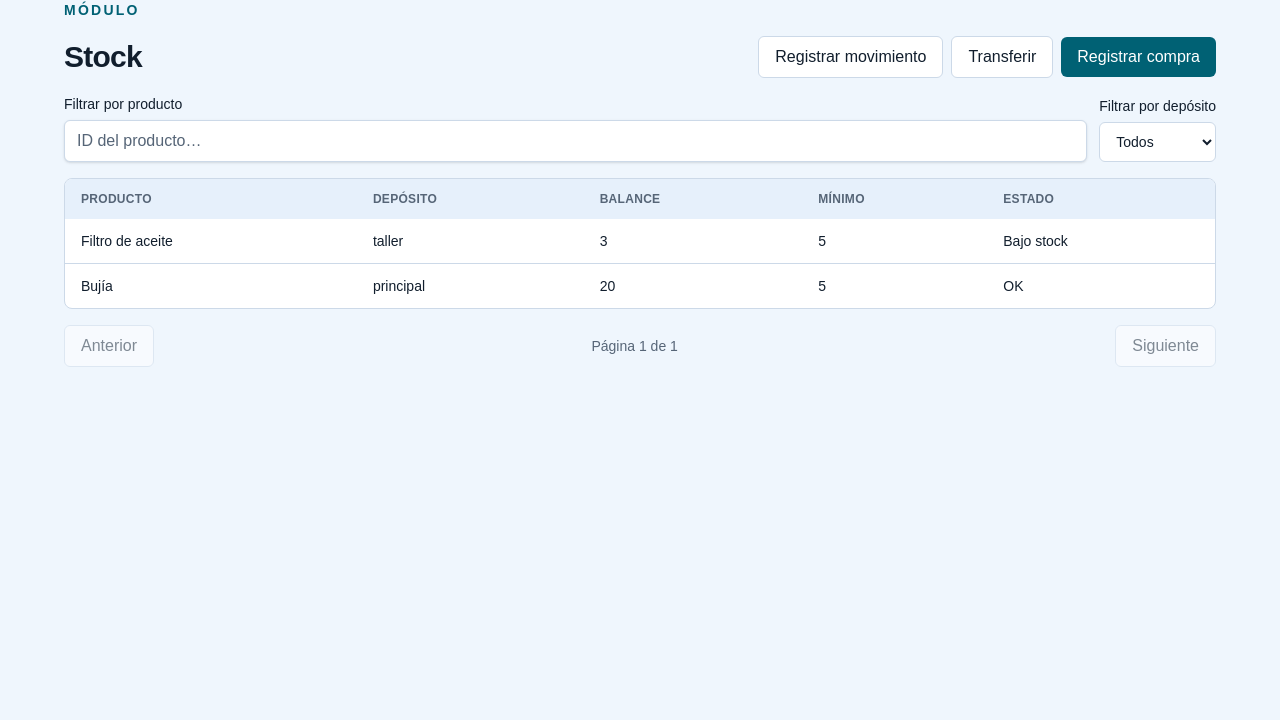
Test: StockPage › transfers as admin, shows a toast, and refreshes the list
This screenshot has width=1280, height=720.
Expected: the text "Filtro de aceite" is shown, [65, 219, 357, 264]
Click the button "Transferir" at (1002, 57), box [951, 36, 1053, 78]
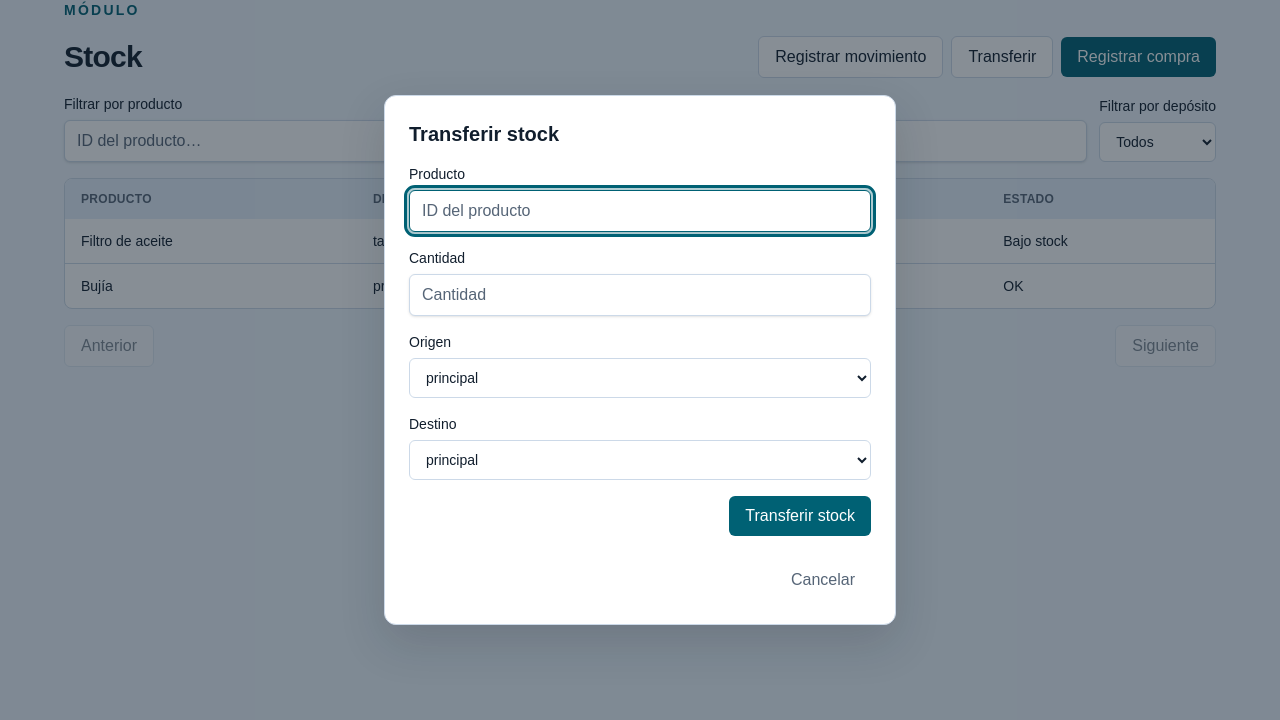
Type "p_1" into the field labelled "Producto" at (640, 211), box [409, 190, 871, 232]
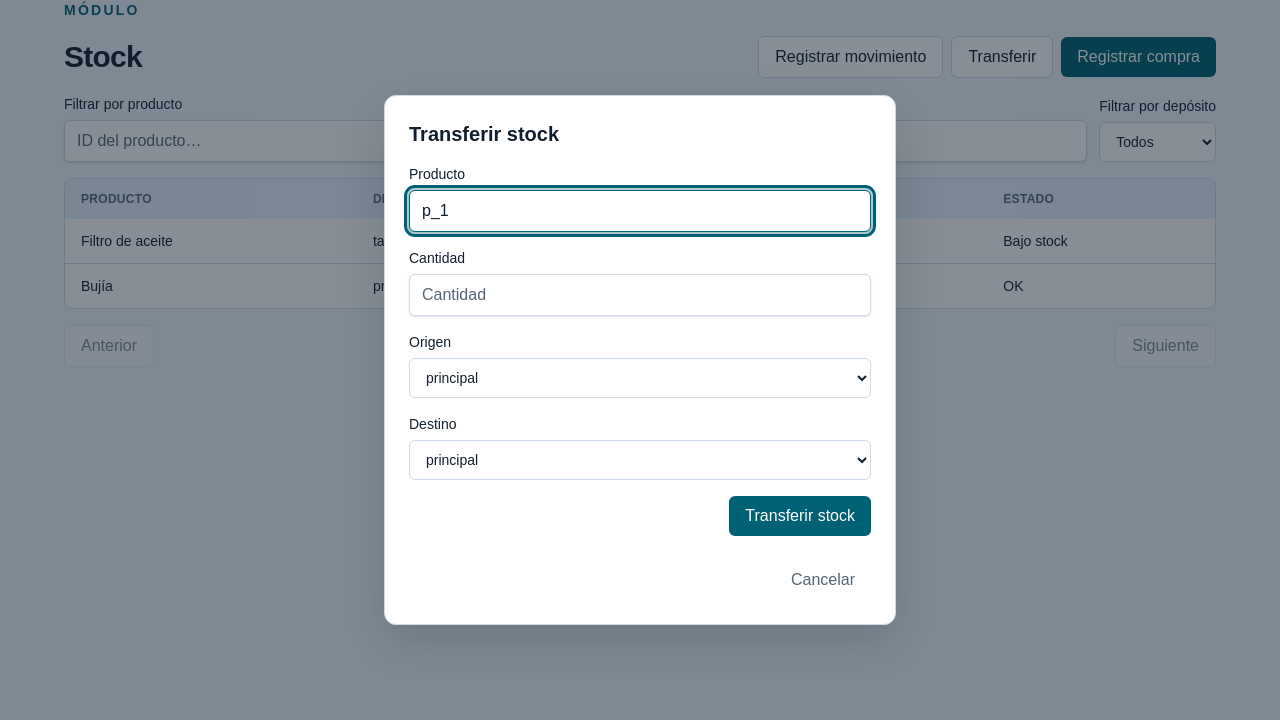
Type "2" into the number field labelled "Cantidad" at (640, 295), box [409, 274, 871, 316]
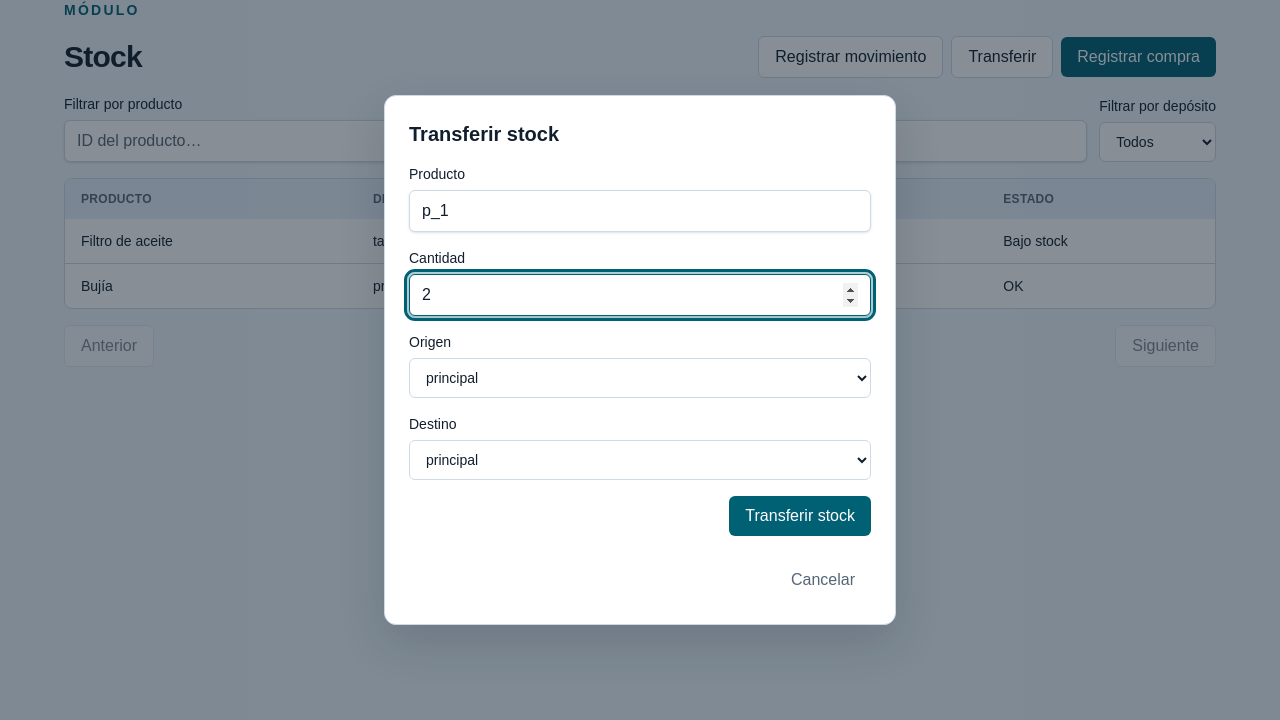
Select "taller" in the dropdown labelled "Destino" at (640, 460), box [409, 440, 871, 480]
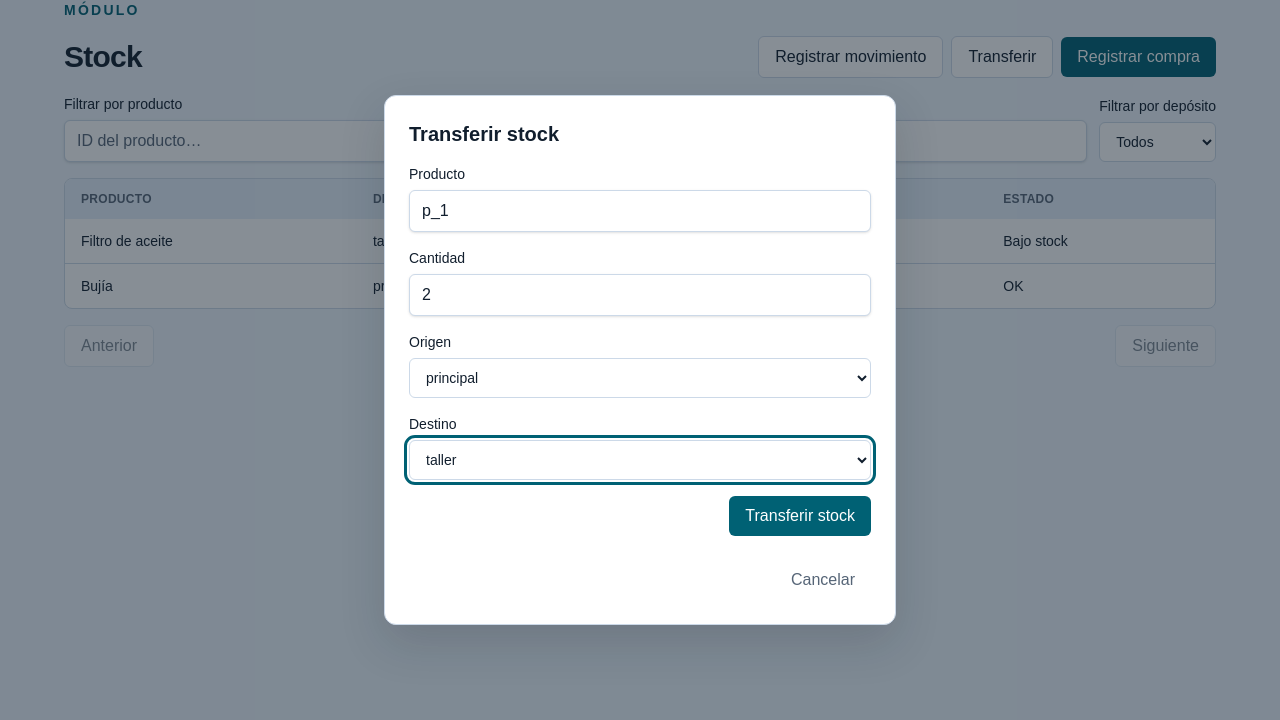
Click the button "Transferir stock" at (800, 516), box [729, 496, 871, 536]
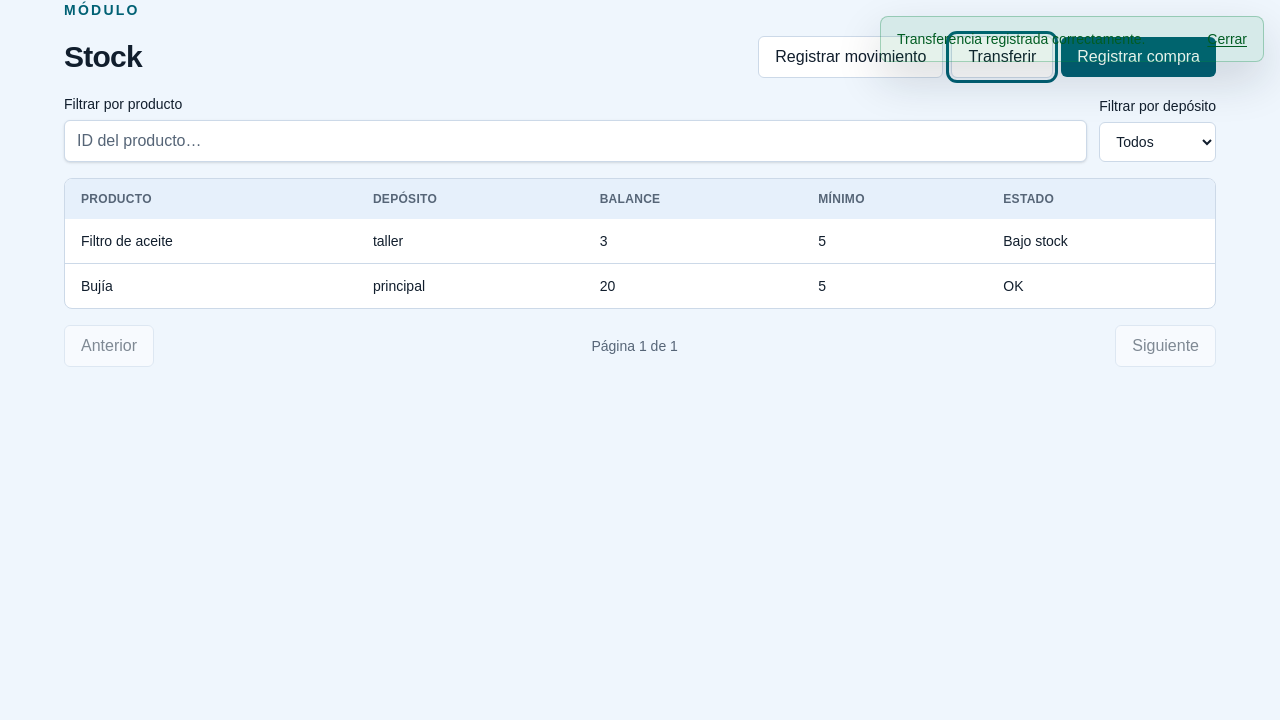
Expected: the message shows "Transferencia registrada correctamente.", [897, 31, 1146, 47]
